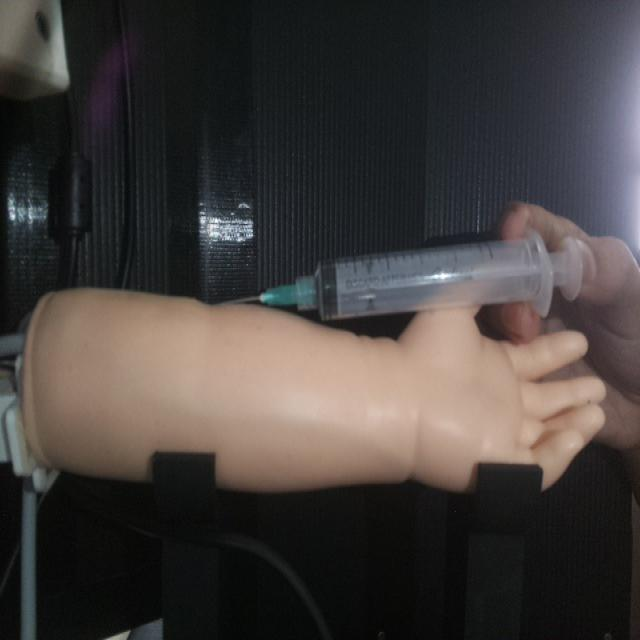Outside: (241, 227, 588, 324)
